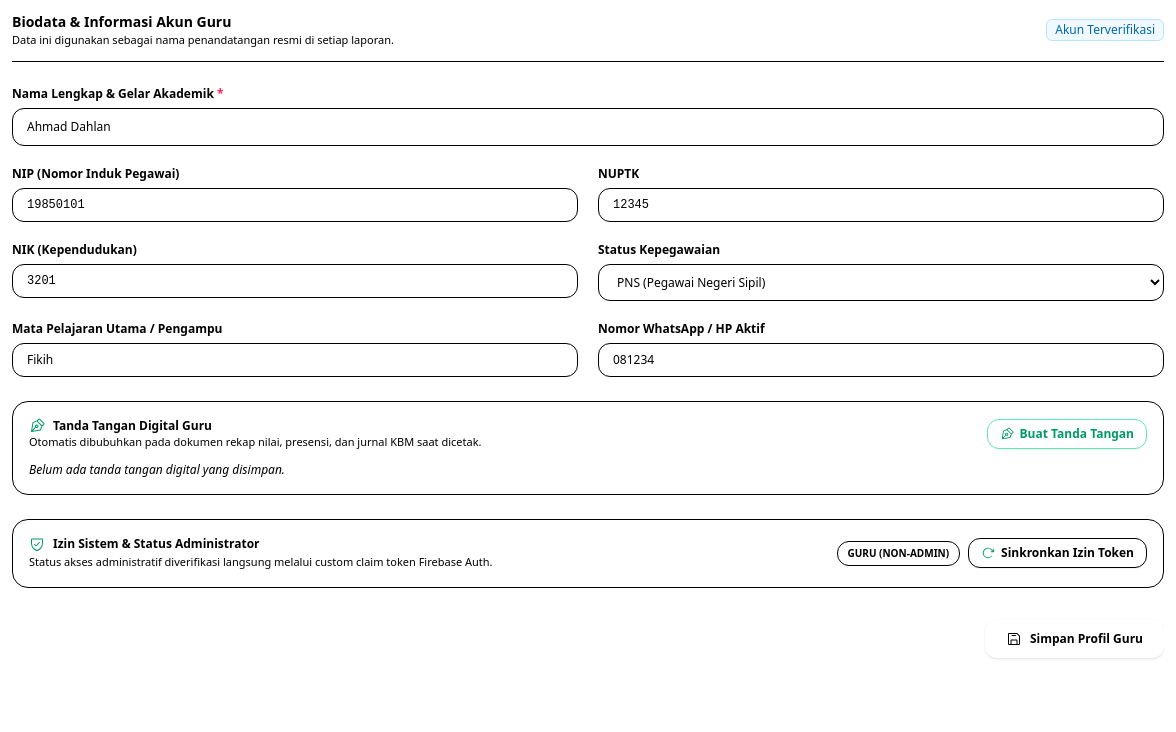
it: ProfileTab Account Permissions & Claim Recovery Affordance › renders non-admin status initially and allows manual synchronization
expect the text "GURU (NON-ADMIN)" is shown: met, box [836,541,960,566]
# Trigger sync
Click the button "Sinkronkan Izin Token": {"x": 1058, "y": 553} [968,538,1147,568]
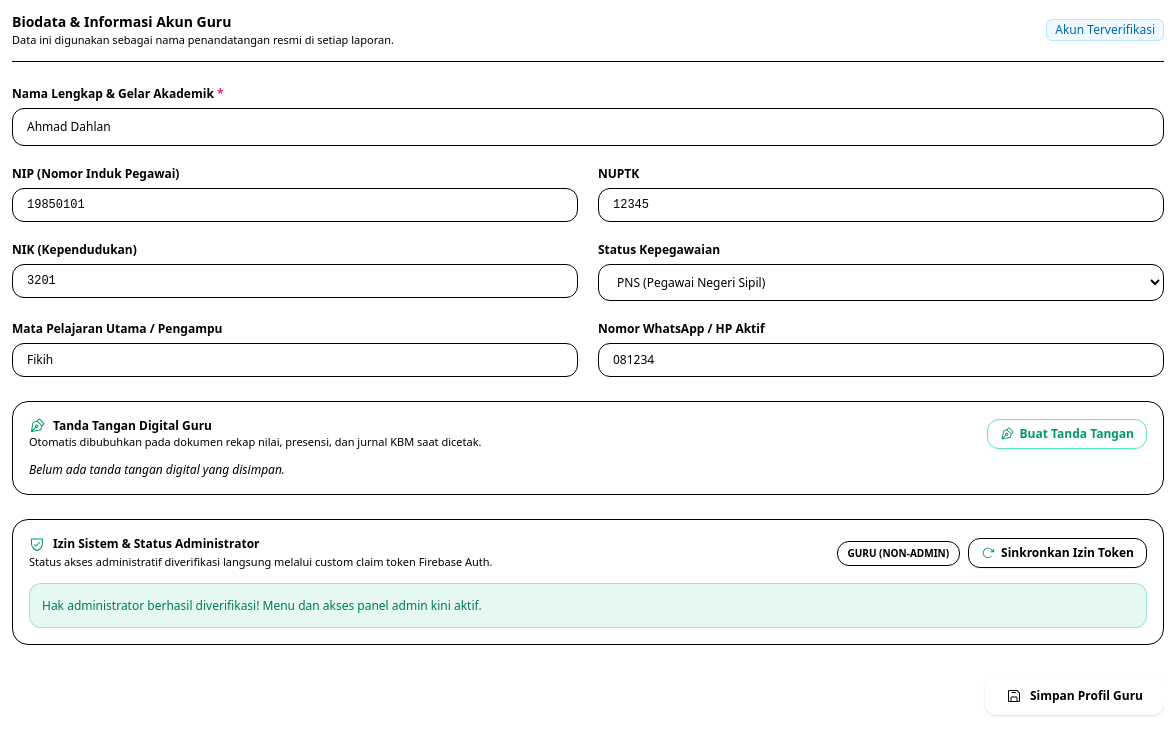
expect the text "Hak administrator berhasil diverifikasi! Menu dan akses panel admin kini aktif." is shown: met, box [29,582,1147,628]
